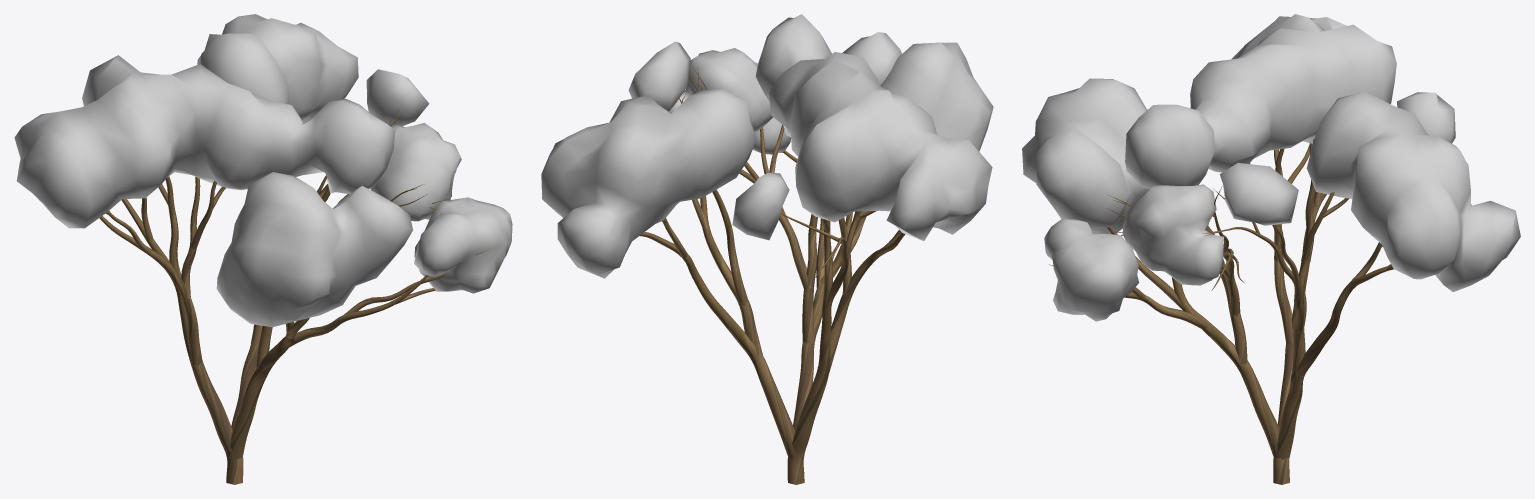
File: SM_Trees_Wuyin_04.fbx
3 views of the same model, side by side, from view 1: azimuth 30°, elevation 25°; view 2: azimuth 150°, elevation 25°; view 3: azimuth 270°, elevation 25° (orthographic).
Parts seen in each view (by area): view 1: SM_Trees_Wuyin_04_Leaves_LOD0, SM_Trees_Wuyin_04_Bark_LOD0; view 2: SM_Trees_Wuyin_04_Leaves_LOD0, SM_Trees_Wuyin_04_Bark_LOD0; view 3: SM_Trees_Wuyin_04_Leaves_LOD0, SM_Trees_Wuyin_04_Bark_LOD0.
Part boxes in pixels (x1,y1,x2,y2): SM_Trees_Wuyin_04_Leaves_LOD0: (14, 14, 512, 327); SM_Trees_Wuyin_04_Bark_LOD0: (99, 109, 485, 484); SM_Trees_Wuyin_04_Leaves_LOD0: (541, 14, 993, 278); SM_Trees_Wuyin_04_Bark_LOD0: (640, 65, 905, 484); SM_Trees_Wuyin_04_Leaves_LOD0: (1022, 14, 1520, 321); SM_Trees_Wuyin_04_Bark_LOD0: (1049, 139, 1393, 484).
Size of what is drawn, in the model's own units: 707 by 753 by 807.
